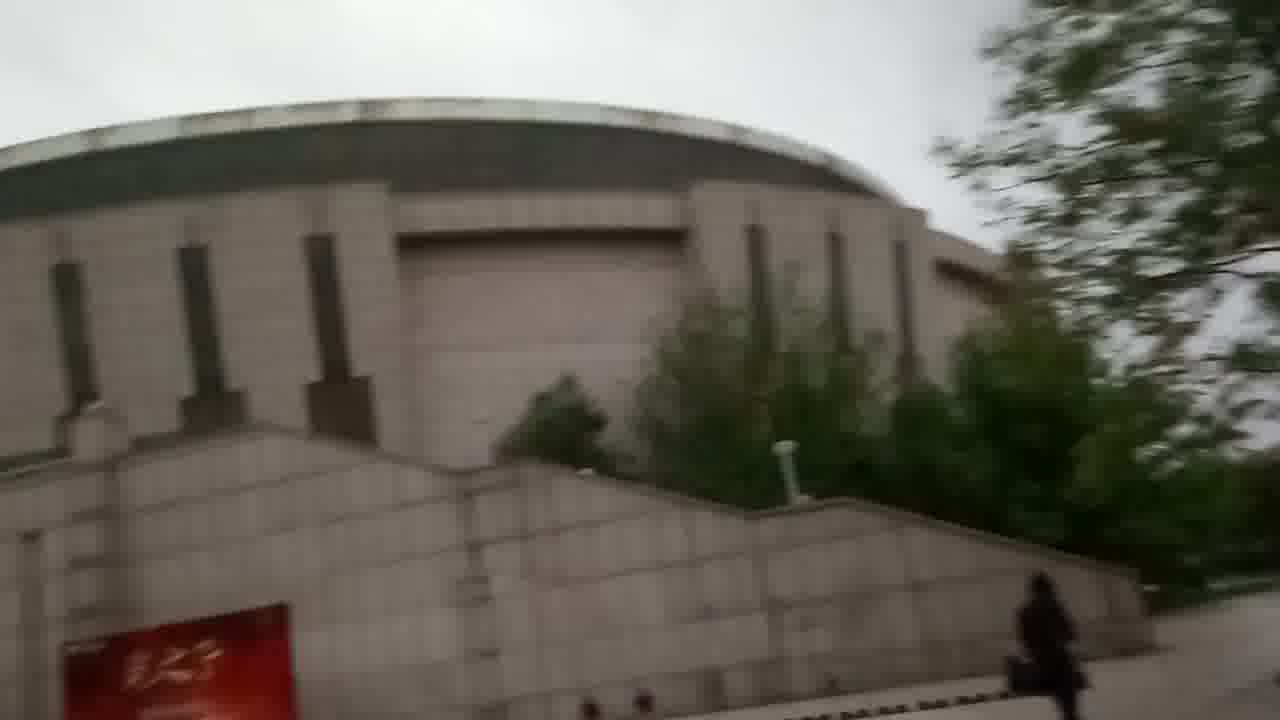zhongtiww: (8, 95, 1152, 720)
